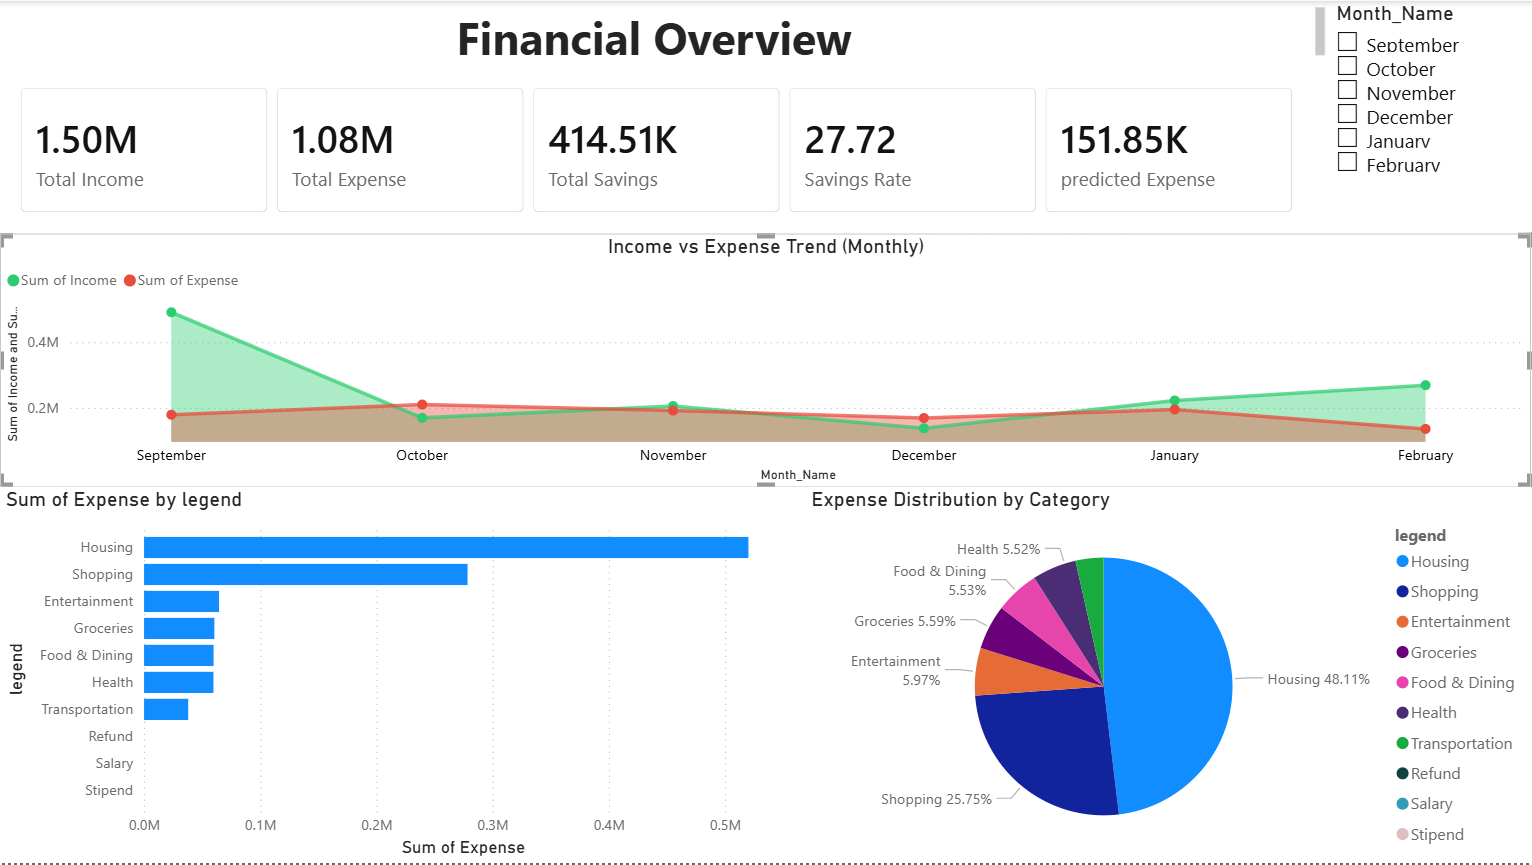

Layout of this report page (visuals, bound fields, positions):
{"tool":"powerbi","page":{"name":"Page 1","canvas":[1280,720],"ordinal":0},"visuals":[{"type":"areaChart","title":"Income vs Expense Trend (Monthly)","fields":{"Category":["monthly_summary.Month_Name"],"Y":["Sum(monthly_summary.Income)","Sum(monthly_summary.Expense)"]},"box":[0,194.2,1279.2,211.7],"z":0},{"type":"shape","box":[672.3,419.4,607.2,299.8],"z":500},{"type":"pieChart","title":"Expense Distribution by Category","fields":{"Y":["Sum(category_summary.Expense)"],"Category":["category_summary.Category"]},"box":[672.8,405.9,606.4,313.2],"z":1000},{"type":"textbox","box":[0,0,1111.4,54.5],"z":2000},{"type":"cardVisual","fields":{"Data":["Sum(monthly_summary.Income)","Sum(monthly_summary.Expense)","Sum(monthly_summary.Savings)","monthly_summary.Savings %","Sum(forecast_data.Predicted_Next_Month_Expense)"]},"box":[0,54.9,1100.6,138.6],"z":3000},{"type":"shape","box":[0,419.4,640.5,299.8],"z":3750},{"type":"listSlicer","fields":{"Values":["monthly_summary.Month_Name"]},"box":[1111.6,0,167.4,193.5],"z":4000},{"type":"barChart","fields":{"Y":["Sum(category_summary.Expense)"],"Category":["category_summary.legend"]},"box":[0,405.9,672.8,313.2],"z":4093}]}

Visuals, with their boxes in screenshot pixels (x1, y1, x2, y2), scaled from the page's 1280x720 canvas onto the 1532x865 screenshot:
"Income vs Expense Trend (Monthly)" areaChart: bbox=[0, 233, 1531, 488]
shape: bbox=[805, 504, 1531, 864]
"Expense Distribution by Category" pieChart: bbox=[805, 488, 1531, 864]
textbox: bbox=[0, 0, 1330, 65]
cardVisual - Sum(monthly_summary.Income) x Sum(monthly_summary.Expense): bbox=[0, 66, 1317, 232]
shape: bbox=[0, 504, 767, 864]
listSlicer - monthly_summary.Month_Name: bbox=[1330, 0, 1531, 232]
barChart - Sum(category_summary.Expense) x category_summary.legend: bbox=[0, 488, 805, 864]
